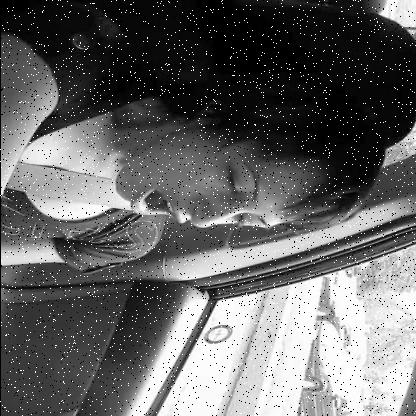seatbelt: (0, 71, 400, 296)
